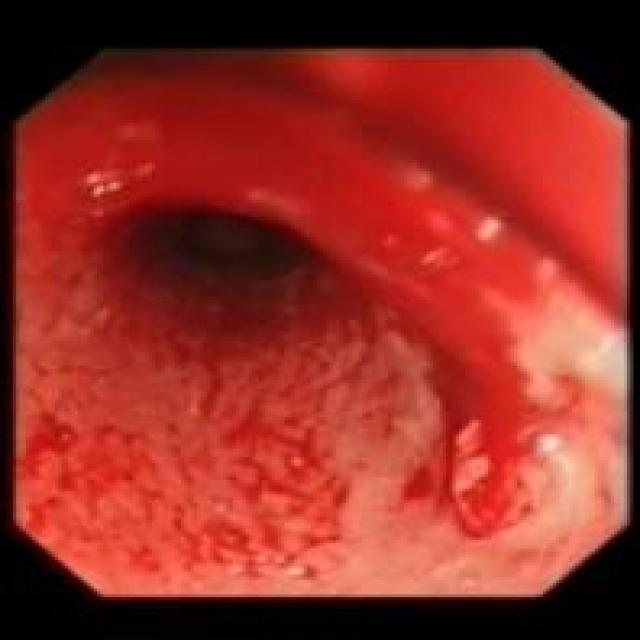blood: (28, 71, 608, 552)
blur: (10, 50, 628, 453)
contrast: (122, 203, 313, 323)
